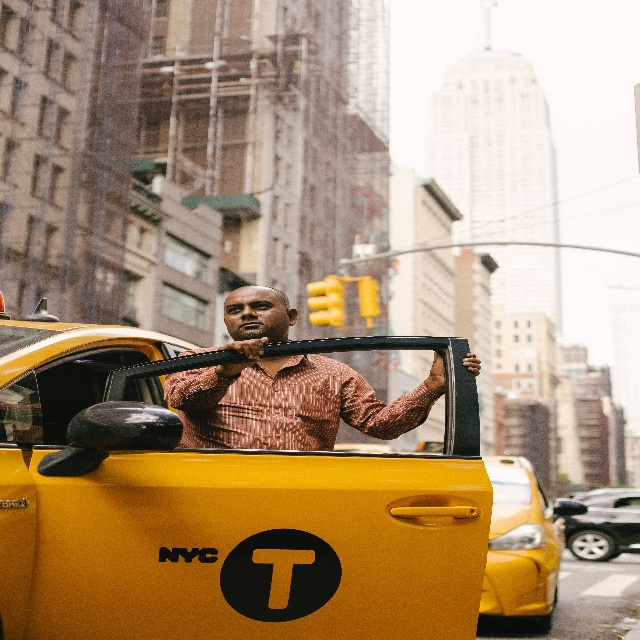Sin_guantes: (217, 336, 268, 376), (430, 352, 481, 390)
